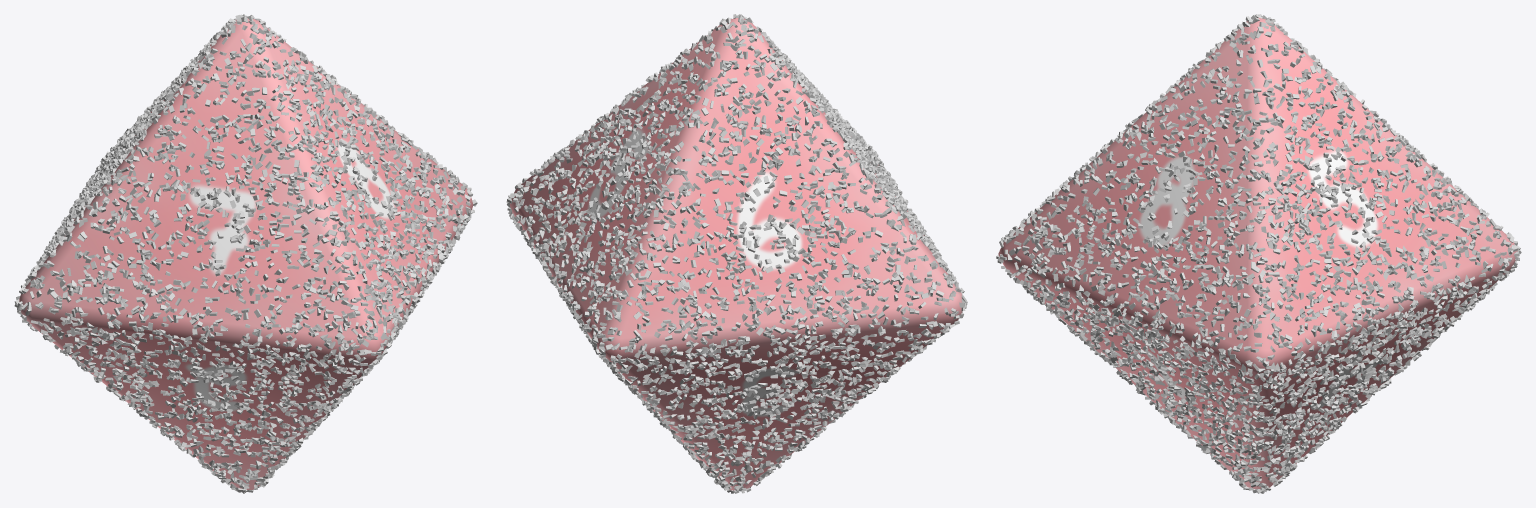
Rendered from Quinns_D8.glb.
The picture shows the model from 3 angles, left to right: view 1: azimuth 30°, elevation 25°; view 2: azimuth 150°, elevation 25°; view 3: azimuth 270°, elevation 25°; orthographic projection.
Visible parts, largest first — view 1: d8_geo; view 2: d8_geo; view 3: d8_geo.
Boxes of the visible parts, x1,y1,x2,y2 form: d8_geo: (14, 14, 477, 493); d8_geo: (506, 14, 967, 493); d8_geo: (996, 14, 1521, 493).
Bounding box in the file's own units: 1.91 × 1.91 × 1.91.
Materials: 2 (1 with a texture image).
